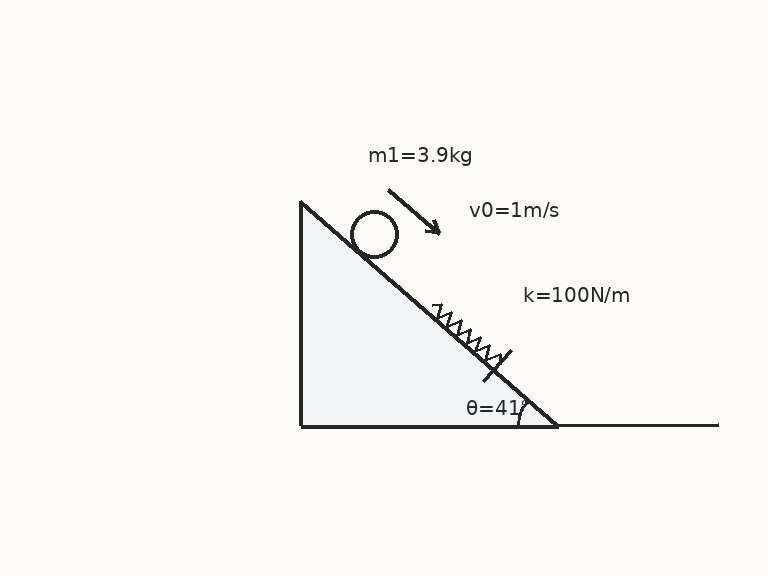ball: (348, 208, 400, 260)
ramp: (298, 200, 560, 428)
spring: (430, 302, 501, 365)
